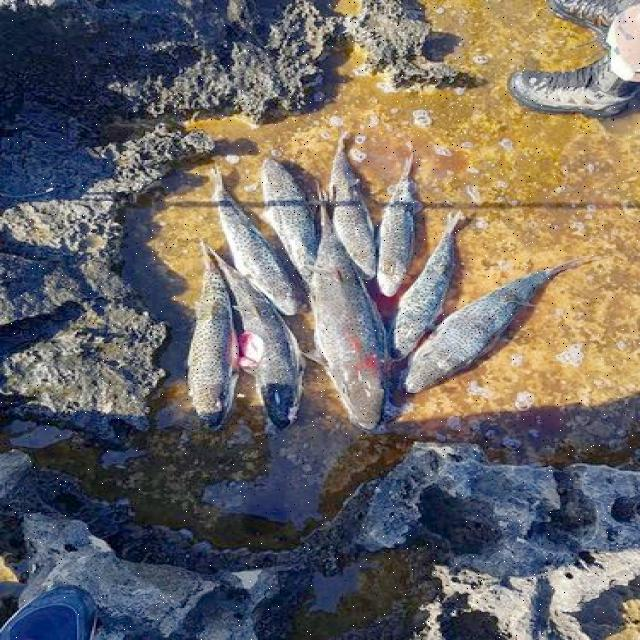Balik: (405, 260, 585, 392), (311, 205, 387, 430), (217, 256, 303, 427), (214, 169, 302, 314), (390, 213, 464, 358), (188, 244, 238, 428), (262, 158, 319, 281), (330, 135, 377, 279), (378, 152, 419, 296)
